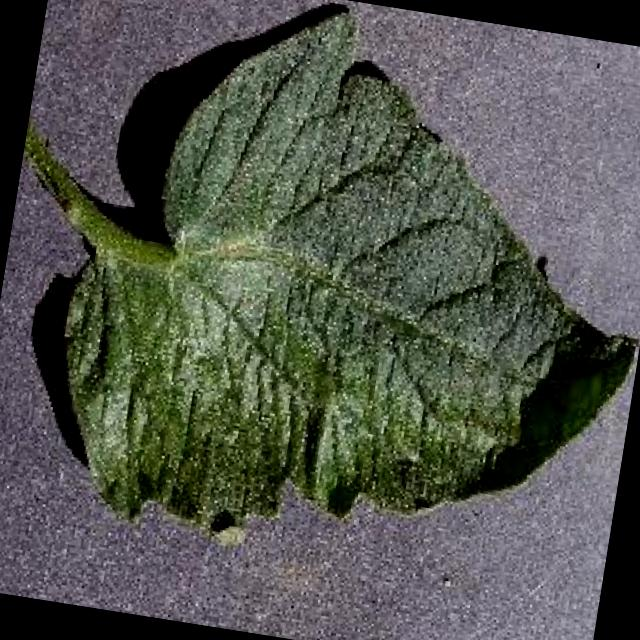healthy: (24, 5, 637, 532)
